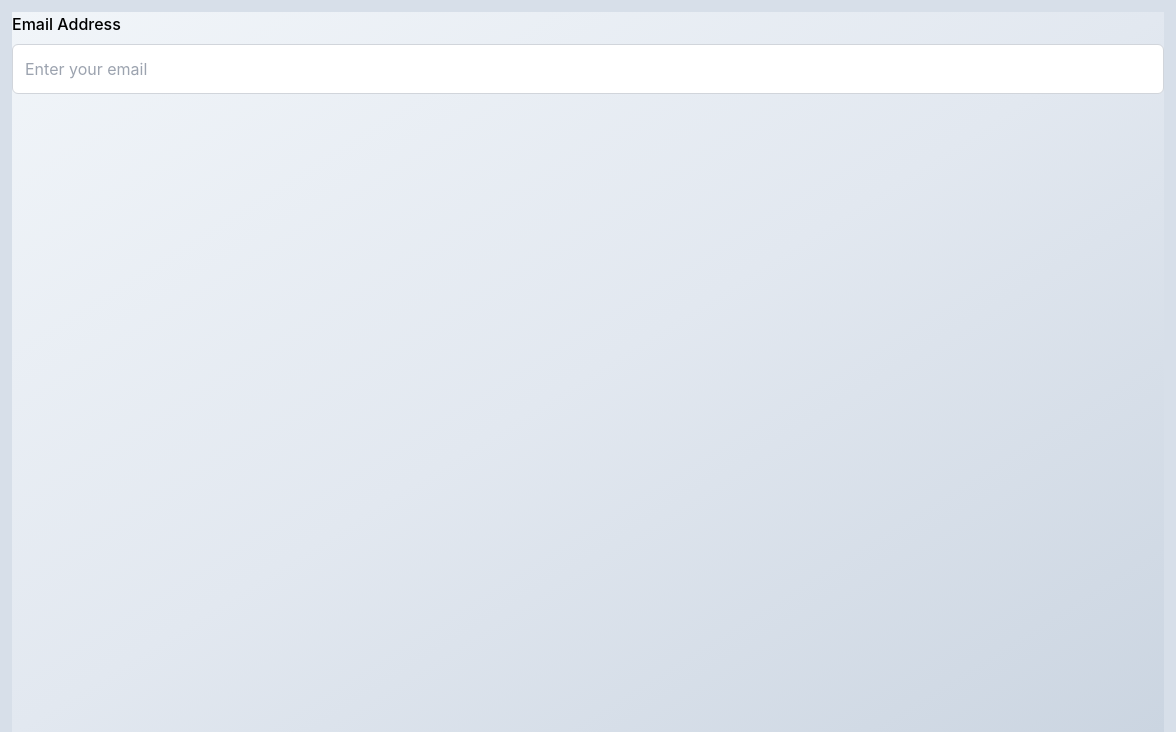
EmailInput Component › shows error message for invalid email
Step 1. Type "invalid-email" into the field with placeholder "Enter your email" → (588, 69), box 12,44 -> 1164,94
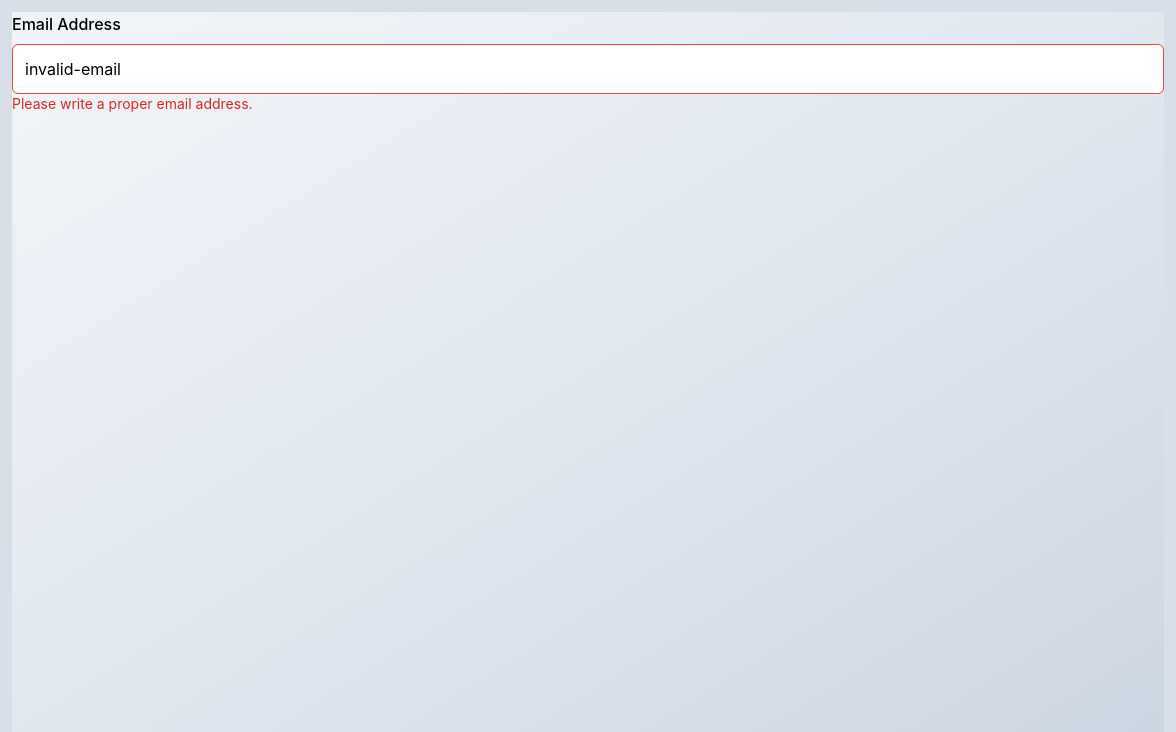
Now the text "Please write a proper email address." is shown, box 12,95 -> 253,112
